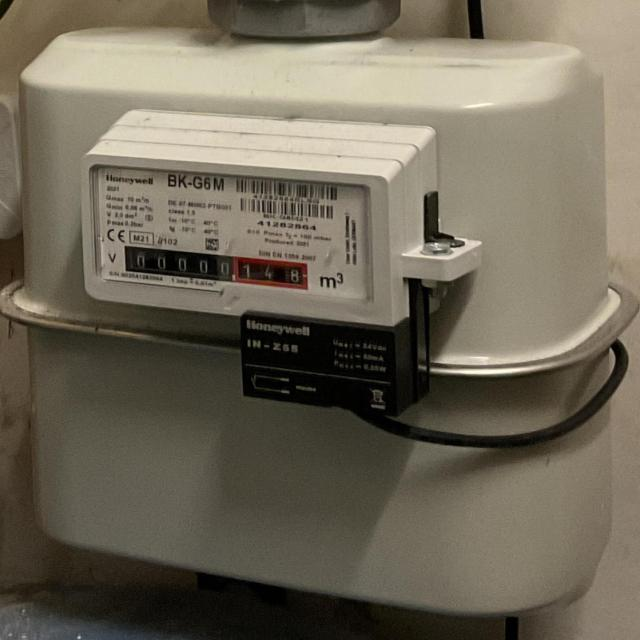gaz_meter: (85, 153, 382, 305)
indication: (126, 246, 310, 291)
